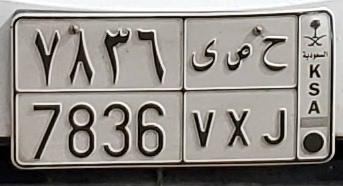3: (101, 28, 131, 158)
6: (135, 29, 166, 157)
7: (31, 30, 63, 160)
8: (68, 28, 97, 159)
J: (259, 35, 288, 146)
V: (190, 38, 219, 150)
X: (224, 43, 254, 148)
